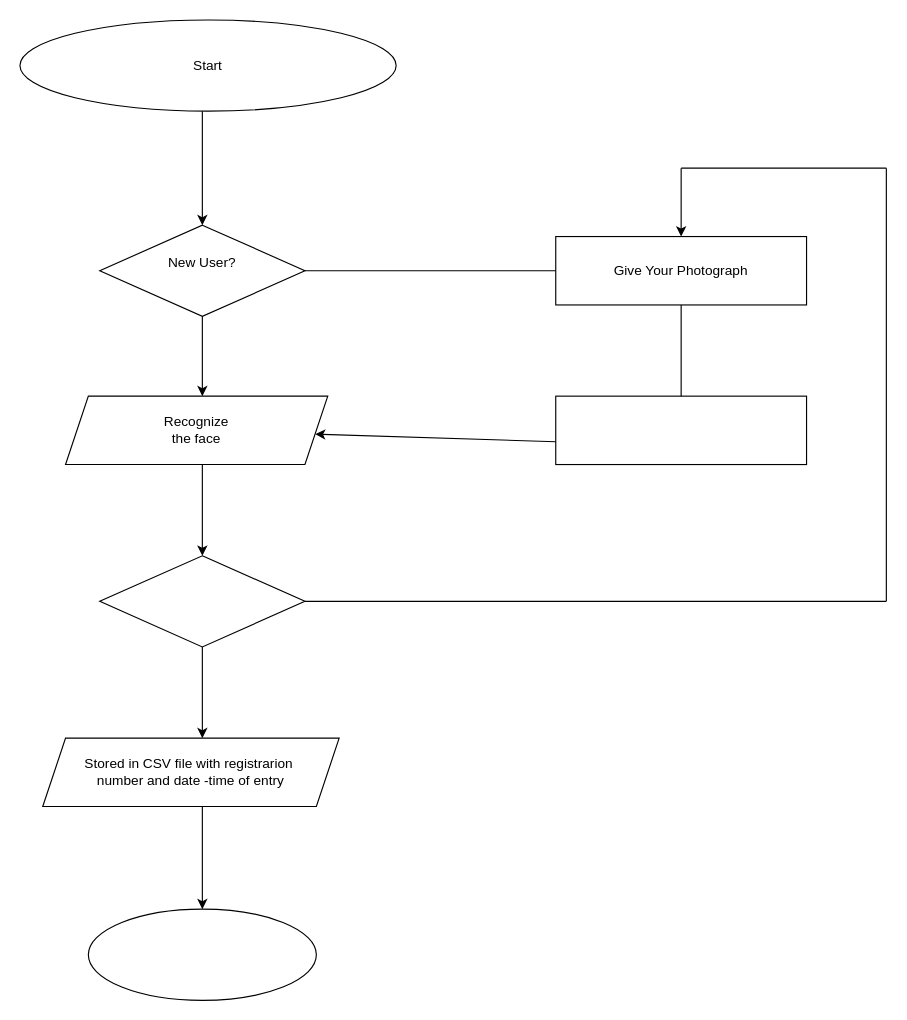
This 907x1020 diagram has some shape labels left out. The centre of each missing label's shape, as x and y in pixels:
End: point 201,954
Fcae Recognized: point 202,601
Store the face date in folder on your name: point 681,430
